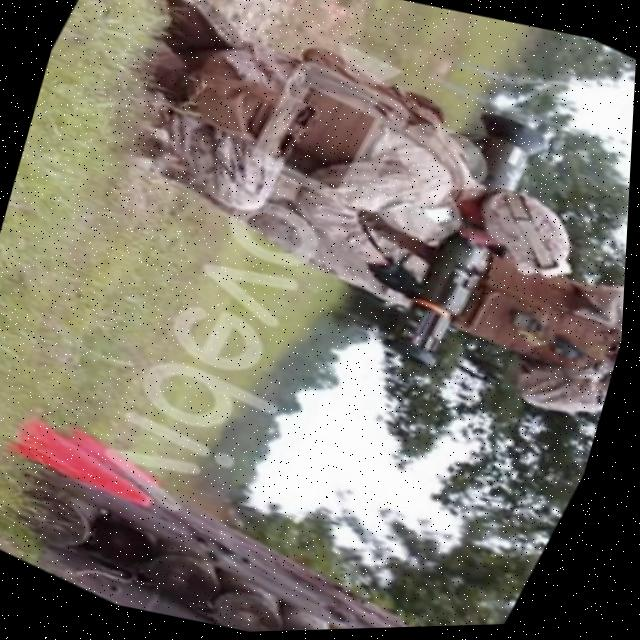rocket: (366, 96, 569, 389)
